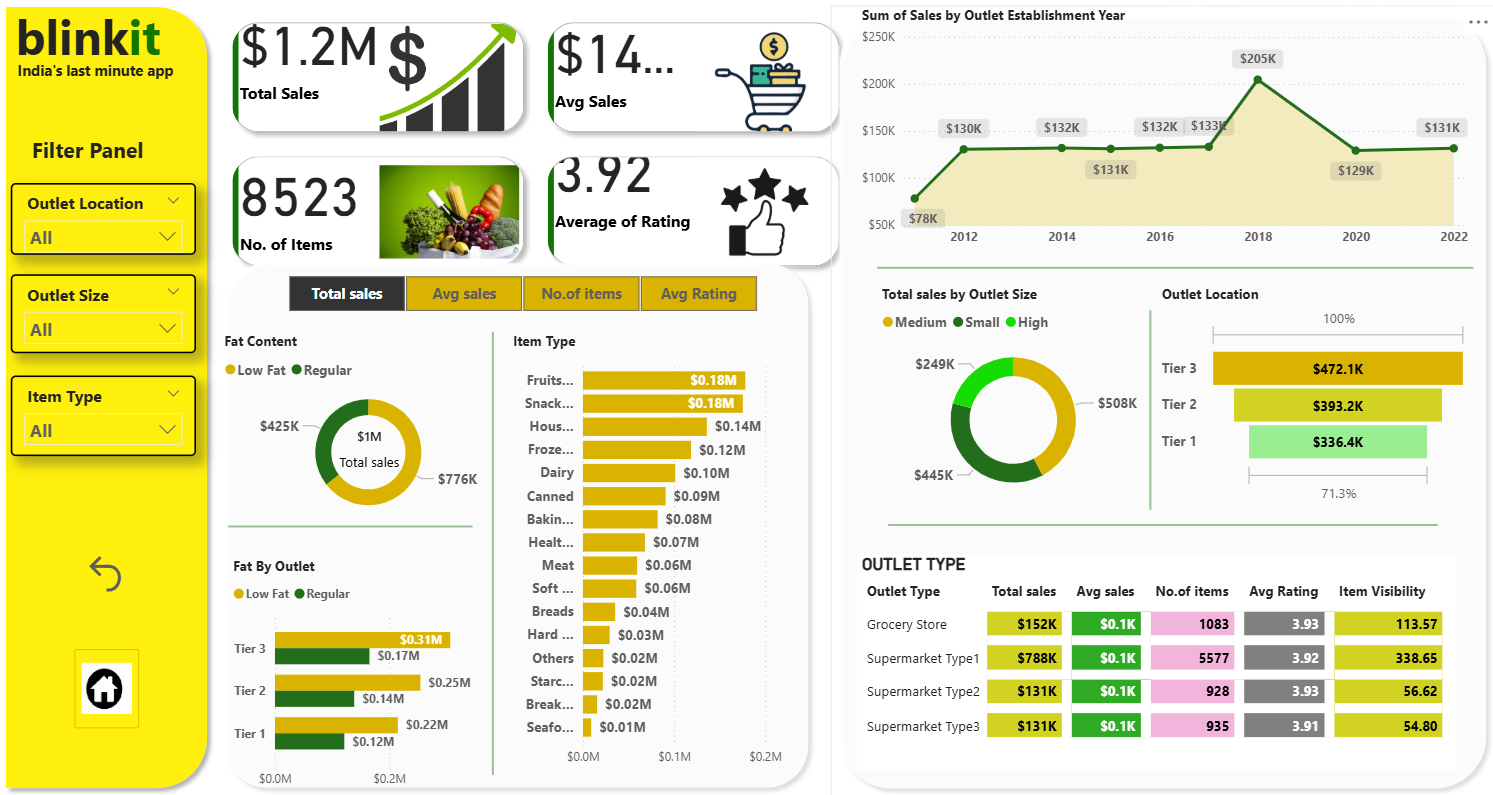

The dashboard page shown, as its layout file describes it:
{"tool":"powerbi","page":{"name":"Blinkit","canvas":[1500,800],"ordinal":0},"visuals":[{"type":"shape","box":[0,0,219.5,800.6],"z":0},{"type":"cardVisual","fields":{"Data":["Sum(BlinkIT Grocery Data.Sales)","Avg(BlinkIT Grocery Data.Sales)","CountNonNull(BlinkIT Grocery Data.Item Type)","Avg(BlinkIT Grocery Data.Rating)"]},"box":[219.2,7.5,642.5,279.3],"z":1000},{"type":"textbox","box":[14.4,0,167.3,79.2],"z":2000},{"type":"textbox","box":[7.2,57.6,205.1,43.2],"z":3000},{"type":"shape","box":[219.5,257.3,602.7,543.3],"z":4000},{"type":"slicer","fields":{"Values":["KPI parameter.KPI parameter"]},"box":[266.3,271.7,518.2,48.6],"z":5000},{"type":"donutChart","title":" Fat Content","fields":{"Y":["BlinkIT Grocery Data.Total sales"],"Category":["BlinkIT Grocery Data.Item Fat Content"]},"box":[223.1,334.6,298.7,194.3],"z":6000},{"type":"card","fields":{"Values":["BlinkIT Grocery Data.Total sales"]},"box":[329.2,419.2,88.2,61.2],"z":7000},{"type":"clusteredBarChart","title":"Fat By Outlet","fields":{"Y":["BlinkIT Grocery Data.Total sales"],"Category":["BlinkIT Grocery Data.Outlet Location Type"],"Series":["BlinkIT Grocery Data.Item Fat Content"]},"box":[232.1,559.5,280.7,241.1],"z":8000},{"type":"shape","box":[232.1,480.4,244.7,97.2],"z":9000},{"type":"shape","box":[374.2,334.6,244.7,444.4],"z":10000},{"type":"barChart","title":" Item Type","fields":{"Y":["BlinkIT Grocery Data.Total sales"],"Category":["BlinkIT Grocery Data.Item Type"]},"box":[512.8,334.6,293.3,444.4],"z":11000},{"type":"shape","box":[834.8,7.2,665.7,793.4],"z":12000},{"type":"lineChart","fields":{"Category":["BlinkIT Grocery Data.Outlet Establishment Year"],"Y":["Sum(BlinkIT Grocery Data.Sales)"]},"box":[861.8,7.2,617.1,250.1],"z":13000},{"type":"shape","box":[881.6,244.7,597.3,52.2],"z":14000},{"type":"donutChart","fields":{"Category":["BlinkIT Grocery Data.Outlet Size"],"Y":["BlinkIT Grocery Data.Total sales"]},"box":[881.6,287.3,273.5,224.9],"z":15000},{"type":"funnel","title":" Outlet Location ","fields":{"Y":["Sum(BlinkIT Grocery Data.Sales)"],"Category":["BlinkIT Grocery Data.Outlet Location Type"]},"box":[1162.2,287.3,316.6,224.9],"z":16000},{"type":"shape","box":[1032.7,313.1,244.7,199.7],"z":17000},{"type":"shape","box":[892.4,466,550.5,124.1],"z":18000},{"type":"pivotTable","title":"OUTLET TYPE","fields":{"Values":["BlinkIT Grocery Data.Total sales","BlinkIT Grocery Data.Avg sales","BlinkIT Grocery Data.No.of items","BlinkIT Grocery Data.Avg Rating","Sum(BlinkIT Grocery Data.Item Visibility)"],"Rows":["BlinkIT Grocery Data.Outlet Type"]},"box":[861.8,557.7,600.9,215.9],"z":19000},{"type":"slicer","fields":{"Values":["BlinkIT Grocery Data.Outlet Location Type"]},"box":[14.4,185.3,185.3,72],"z":20000},{"type":"slicer","fields":{"Values":["BlinkIT Grocery Data.Item Type"]},"box":[14.4,377.8,185.3,81],"z":21000},{"type":"slicer","fields":{"Values":["BlinkIT Grocery Data.Outlet Size"]},"box":[14.4,277.1,185.3,79.2],"z":22000},{"type":"textbox","box":[30.6,133.1,169.1,72],"z":23000},{"type":"actionButton","box":[84.6,550.5,46.8,52.2],"z":24000},{"type":"image","box":[77.4,653.1,64.8,79.2],"z":25000}]}

Visuals, with their boxes in screenshot pixels (x1, y1, x2, y2), scaled from the page's 1500x800 canvas onto the 1493x795 screenshot:
shape: {"left": 0, "top": 0, "right": 218, "bottom": 794}
cardVisual - Sum(BlinkIT Grocery Data.Sales) x Avg(BlinkIT Grocery Data.Sales): {"left": 218, "top": 7, "right": 858, "bottom": 285}
textbox: {"left": 14, "top": 0, "right": 181, "bottom": 79}
textbox: {"left": 7, "top": 57, "right": 211, "bottom": 100}
shape: {"left": 218, "top": 256, "right": 818, "bottom": 794}
slicer - KPI parameter.KPI parameter: {"left": 265, "top": 270, "right": 781, "bottom": 318}
" Fat Content" donutChart: {"left": 222, "top": 333, "right": 519, "bottom": 526}
card - BlinkIT Grocery Data.Total sales: {"left": 328, "top": 417, "right": 415, "bottom": 477}
"Fat By Outlet" clusteredBarChart: {"left": 231, "top": 556, "right": 510, "bottom": 794}
shape: {"left": 231, "top": 477, "right": 475, "bottom": 574}
shape: {"left": 372, "top": 333, "right": 616, "bottom": 774}
" Item Type" barChart: {"left": 510, "top": 333, "right": 802, "bottom": 774}
shape: {"left": 831, "top": 7, "right": 1492, "bottom": 794}
lineChart - BlinkIT Grocery Data.Outlet Establishment Year x Sum(BlinkIT Grocery Data.Sales): {"left": 858, "top": 7, "right": 1472, "bottom": 256}
shape: {"left": 877, "top": 243, "right": 1472, "bottom": 295}
donutChart - BlinkIT Grocery Data.Outlet Size x BlinkIT Grocery Data.Total sales: {"left": 877, "top": 286, "right": 1150, "bottom": 509}
" Outlet Location " funnel: {"left": 1157, "top": 286, "right": 1472, "bottom": 509}
shape: {"left": 1028, "top": 311, "right": 1271, "bottom": 510}
shape: {"left": 888, "top": 463, "right": 1436, "bottom": 586}
"OUTLET TYPE" pivotTable: {"left": 858, "top": 554, "right": 1456, "bottom": 769}
slicer - BlinkIT Grocery Data.Outlet Location Type: {"left": 14, "top": 184, "right": 199, "bottom": 256}
slicer - BlinkIT Grocery Data.Item Type: {"left": 14, "top": 375, "right": 199, "bottom": 456}
slicer - BlinkIT Grocery Data.Outlet Size: {"left": 14, "top": 275, "right": 199, "bottom": 354}
textbox: {"left": 30, "top": 132, "right": 199, "bottom": 204}
actionButton: {"left": 84, "top": 547, "right": 131, "bottom": 599}
image: {"left": 77, "top": 649, "right": 142, "bottom": 728}
